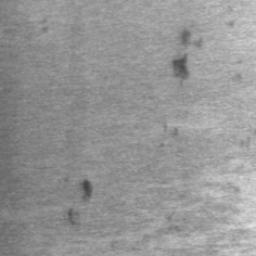Iron scale compression: (172, 29, 204, 87), (82, 179, 93, 206), (68, 207, 77, 225)
